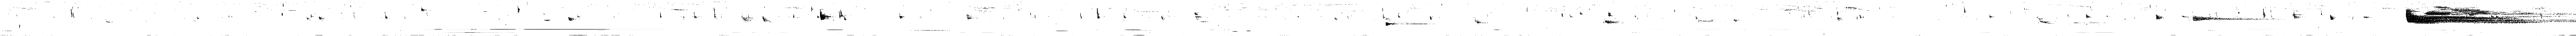meteor: (2405, 8, 2546, 25), (2192, 15, 2272, 21), (820, 10, 833, 21), (2039, 18, 2055, 23), (2293, 11, 2303, 20), (1474, 18, 1488, 23), (741, 16, 754, 21), (1385, 21, 1398, 26), (762, 16, 772, 21), (1605, 20, 1620, 23), (2330, 13, 2336, 20), (2155, 15, 2164, 20), (421, 7, 427, 11), (568, 16, 575, 21), (839, 11, 844, 18), (384, 13, 389, 20), (319, 16, 325, 20), (966, 15, 973, 18), (306, 16, 310, 20)
